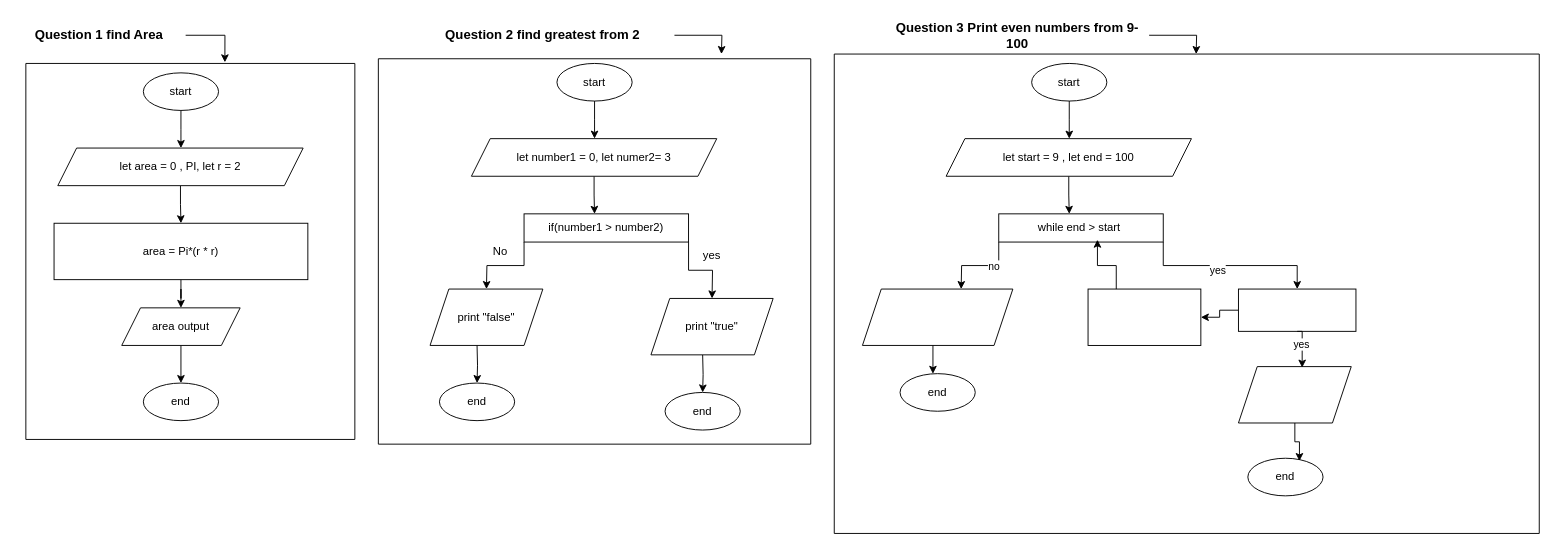
Some shapes in this 1556 by 550 pixel diagram are drawn without their labels. The centre of each missing label's shape, as x and y in pixels:
"if start %2 == 0 ?" belongs at (x=1297, y=309).
"Print both values are same" belongs at (x=937, y=316).
"print even number" belongs at (x=1294, y=394).
"start = start +1" belongs at (x=1144, y=316).
